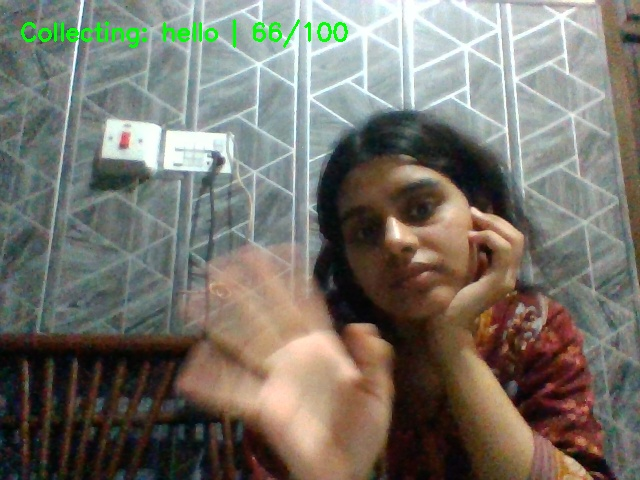hello: (160, 235, 401, 479)
